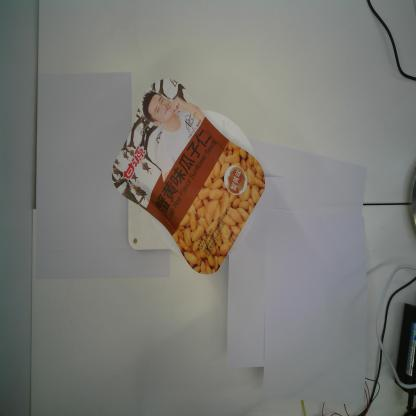Dried Fruit: (111, 78, 266, 275)
